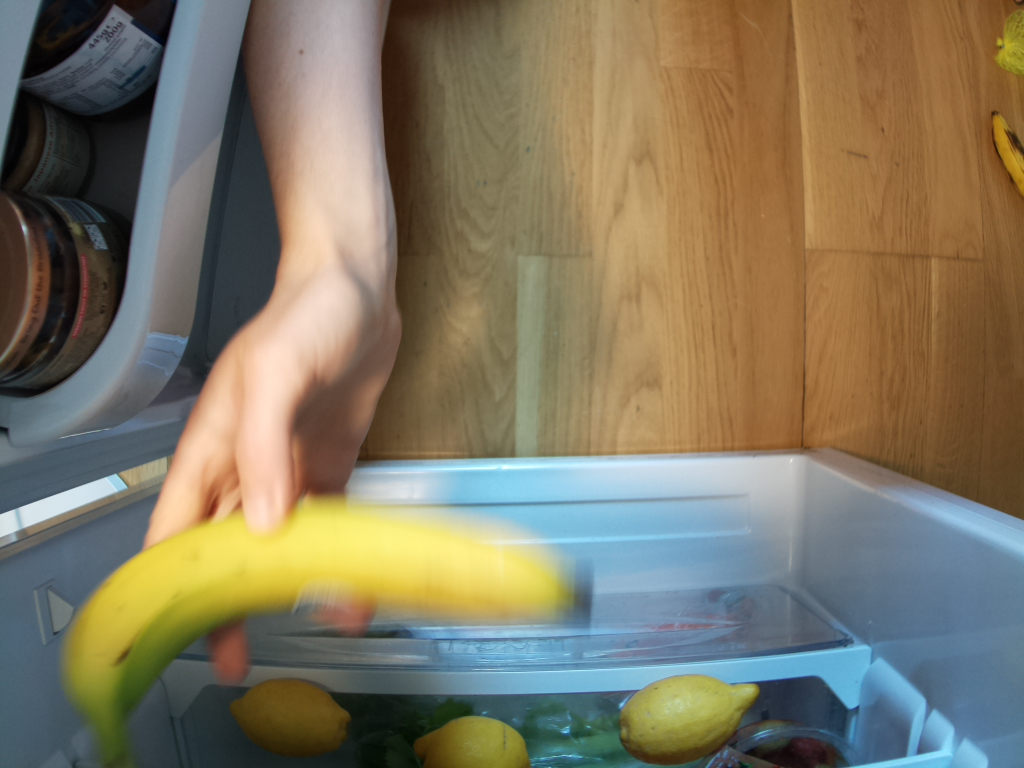banana-unripe: (61, 494, 589, 766)
